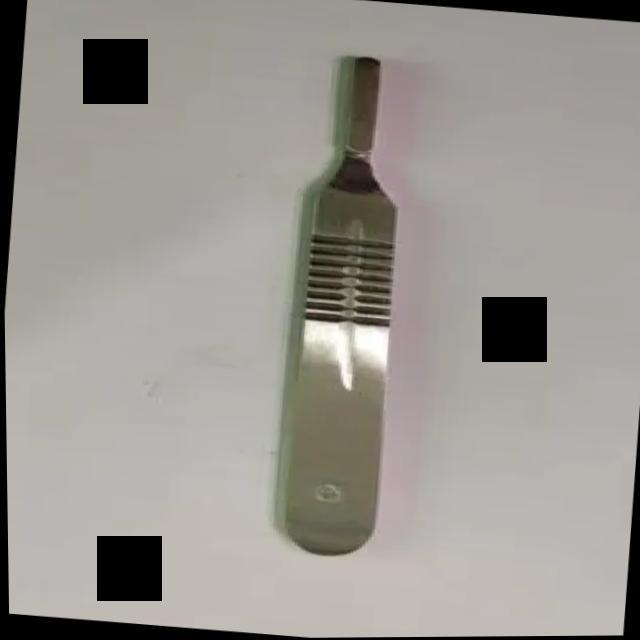Knife handle: (240, 41, 446, 564)
